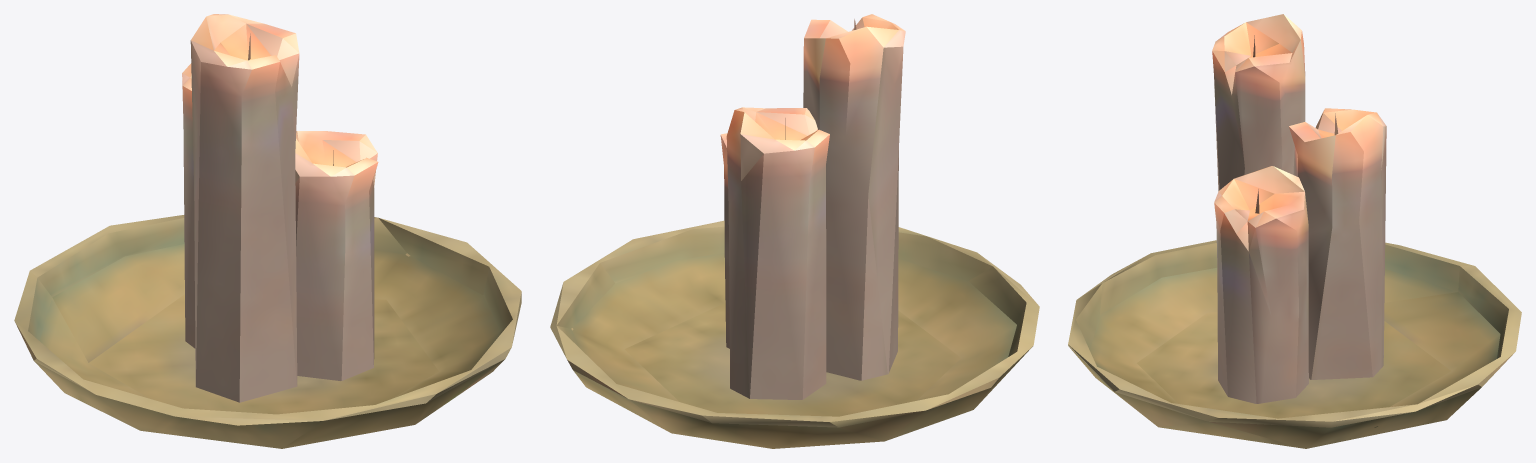
The model's file is candle-tray-three.lod1.glb.
3 views of the same model, side by side, from view 1: azimuth 30°, elevation 25°; view 2: azimuth 150°, elevation 25°; view 3: azimuth 270°, elevation 25° (orthographic). The views are drawn at different scales.
Parts seen in each view (by area): view 1: candle-tray-three; view 2: candle-tray-three; view 3: candle-tray-three.
Boxes of the visible parts, x1,y1,x2,y2 form: candle-tray-three: (14,14,521,448); candle-tray-three: (550,14,1039,448); candle-tray-three: (1068,14,1521,448).
Bounding box in the file's own units: 0.1058 × 0.0876 × 0.1053.
1 material, 1 textured.
